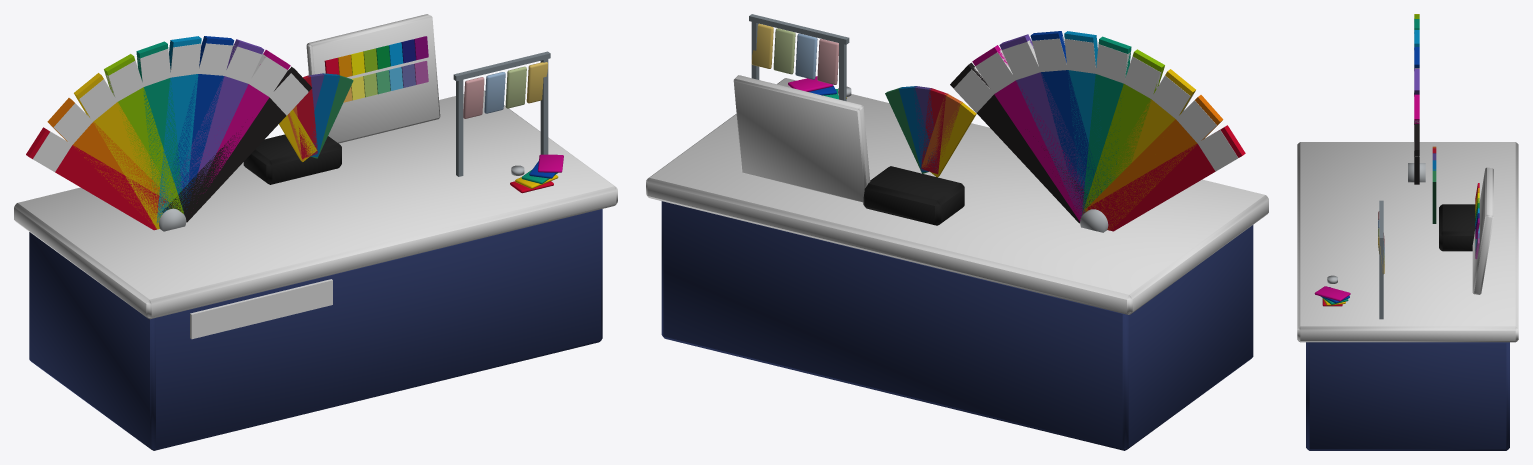
The model's file is m_swatchset.glb.
The picture shows the model from 3 angles, left to right: view 1: azimuth 30°, elevation 25°; view 2: azimuth 150°, elevation 25°; view 3: azimuth 270°, elevation 25°; orthographic projection. The views are drawn at different scales.
Parts seen in each view (by area): view 1: m_swatchset; view 2: m_swatchset; view 3: m_swatchset.
Boxes of the visible parts, bbox=[...] form: m_swatchset: bbox=[14, 14, 617, 450]; m_swatchset: bbox=[646, 14, 1268, 450]; m_swatchset: bbox=[1297, 14, 1518, 450].
Size of the model in its own units: 1.1 by 0.6912 by 0.5.
